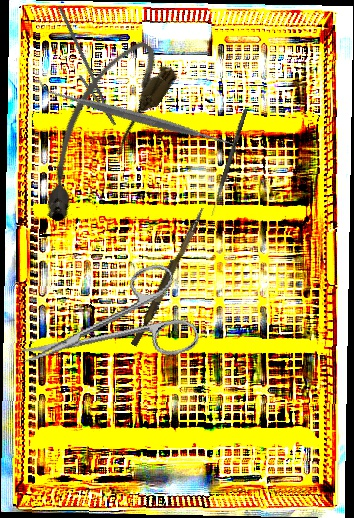Cannula: (14, 30, 183, 232)
Hook Surgical: (210, 108, 248, 217)
Iris Scissors: (8, 258, 202, 398)
Needle Holder: (36, 5, 130, 132)
Pusher: (130, 204, 206, 349)
Spatula Surgical: (38, 17, 238, 217)
